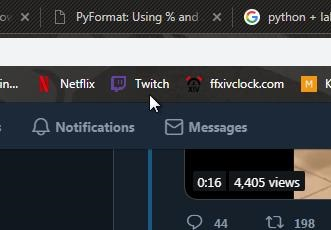cursor: (148, 94, 161, 113)
